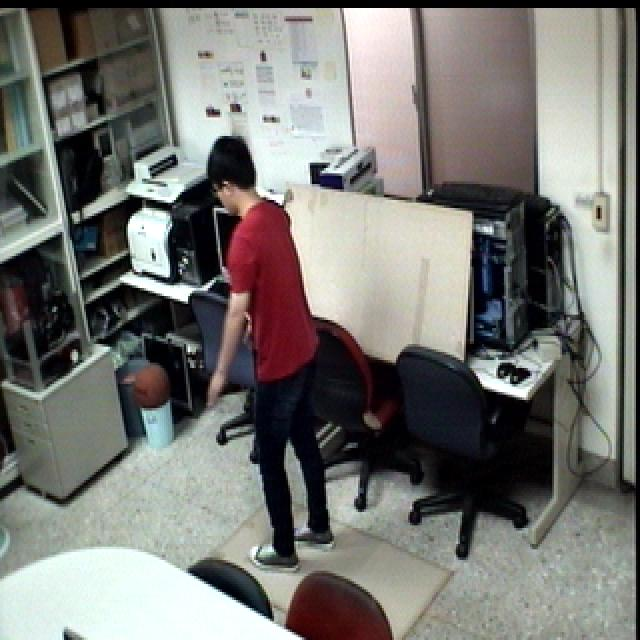stand: (194, 133, 339, 588)
